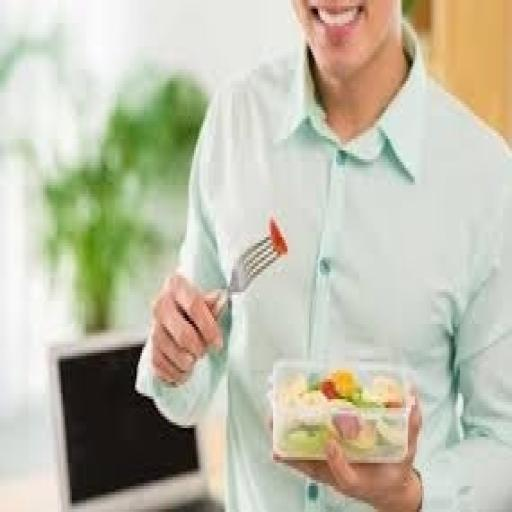eating: (133, 0, 510, 509)
